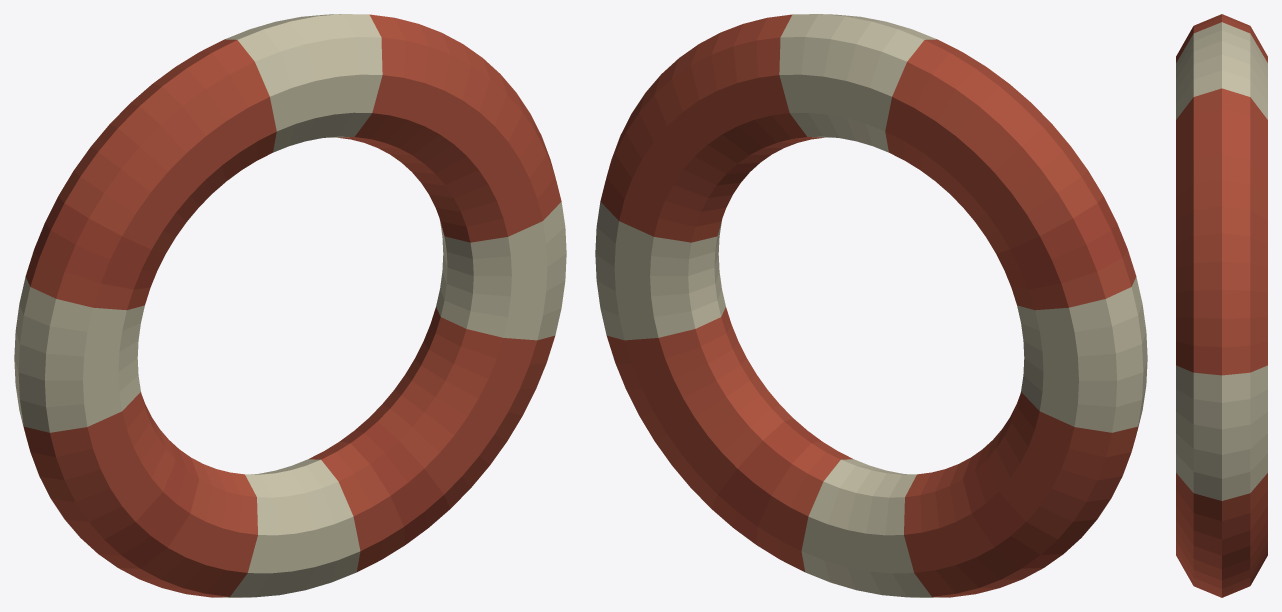
The model's file is lifebuoy.glb.
The picture shows the model from 3 angles, left to right: view 1: azimuth 30°, elevation 25°; view 2: azimuth 150°, elevation 25°; view 3: azimuth 270°, elevation 25°; orthographic projection. The views are drawn at different scales.
Visible parts, largest first — view 1: lifebuoy; view 2: lifebuoy; view 3: lifebuoy.
Boxes of the visible parts, x1=… form: lifebuoy: x1=14, y1=14, x2=566, y2=597; lifebuoy: x1=595, y1=14, x2=1147, y2=597; lifebuoy: x1=1176, y1=14, x2=1267, y2=597.
Bounding box in the file's own units: 0.786 × 0.786 × 0.1236.
